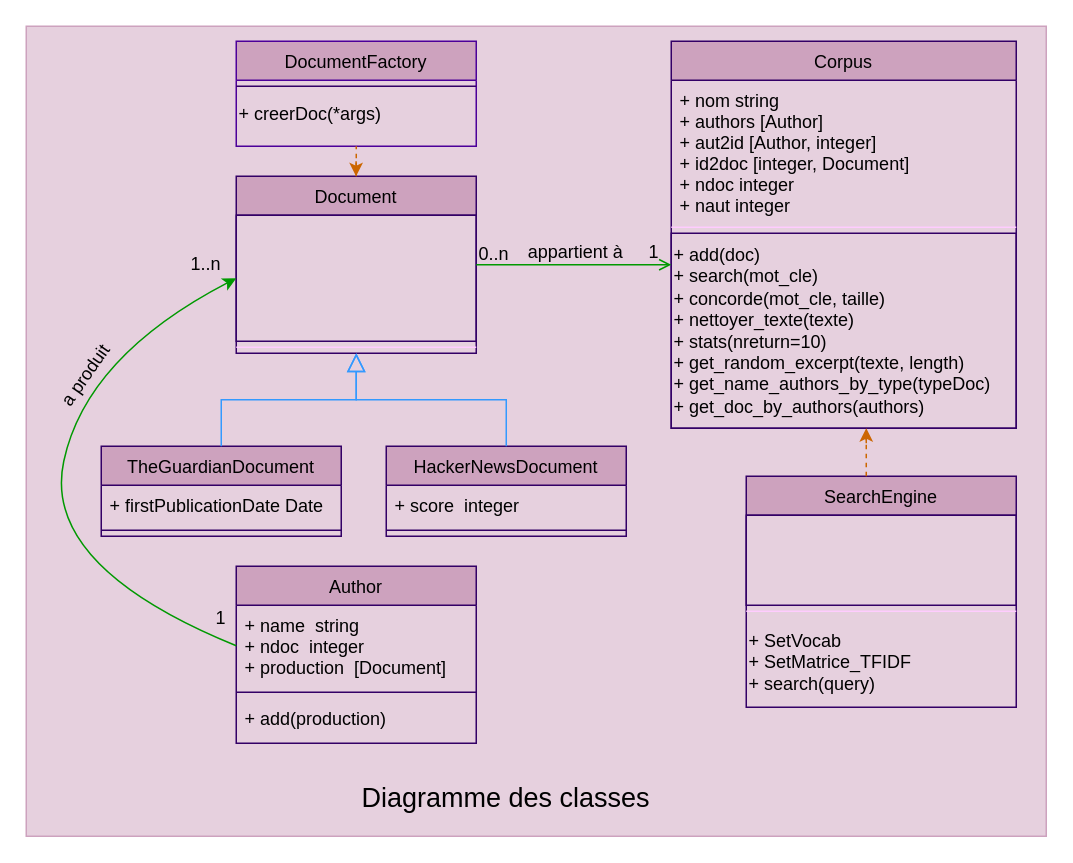
Image size: 1073x863. Some labels were removed from this diagram. The shapes that lost their labels are listed below. From the top down, each one's centre as x and y in pixels, then its label:
At (355,277): "+ titre string + auteur string + date Date + url string + texte string".
At (880,559): "+ corpus Corpus + mat_TFIDF matrice + vocab [string]".
